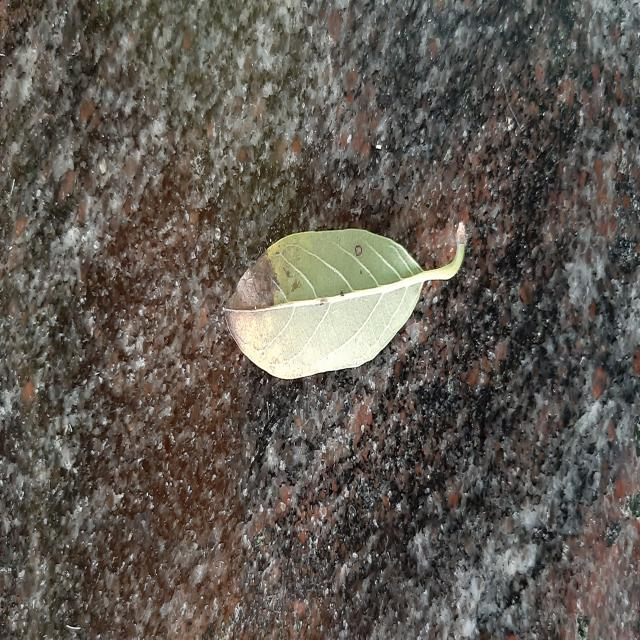leaf spot: (225, 222, 466, 379)
